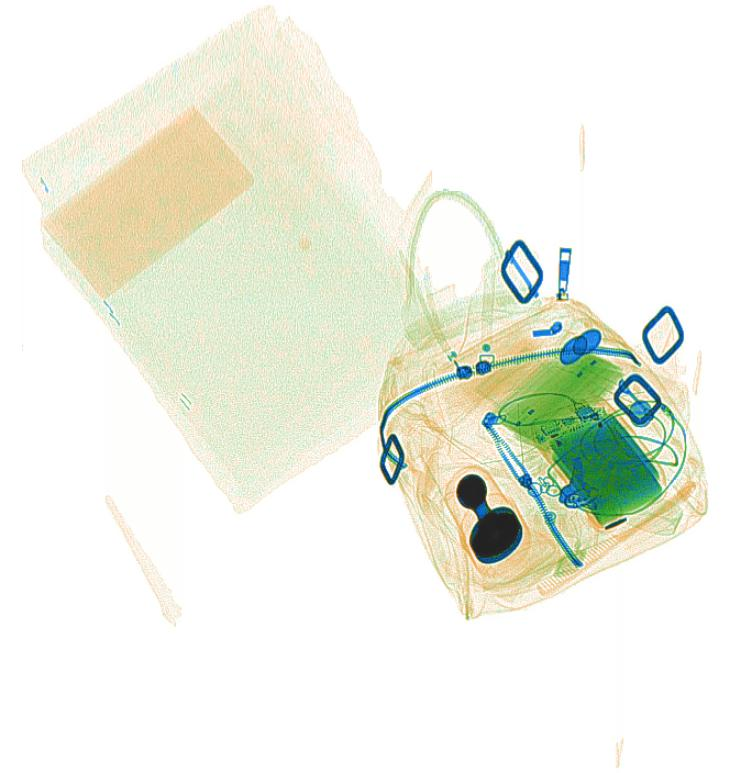seal: (454, 472, 524, 565)
